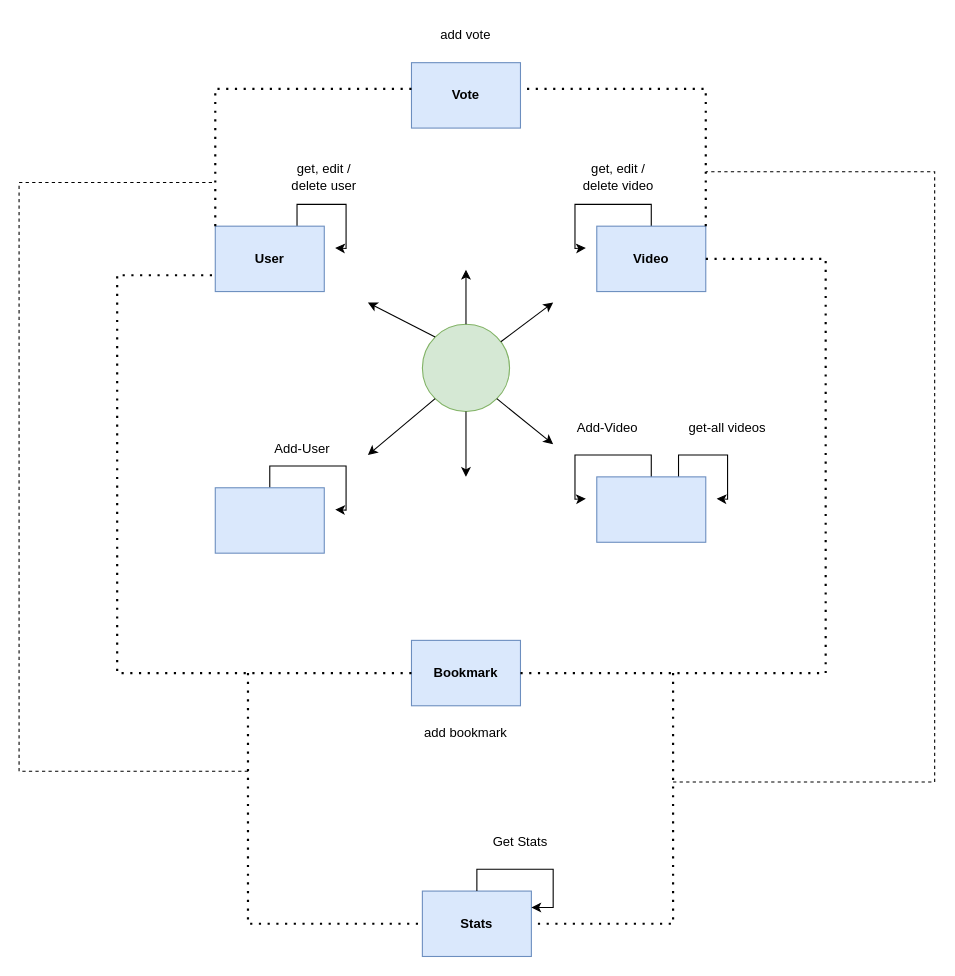
The diagram is 955 pixels wide and 976 high, and some of its shapes have lost their labels. The centre of each missing label's shape, as x and y in pixels:
API Endpoints: (x=465, y=367)
Users: (x=269, y=520)
Videos: (x=651, y=509)
